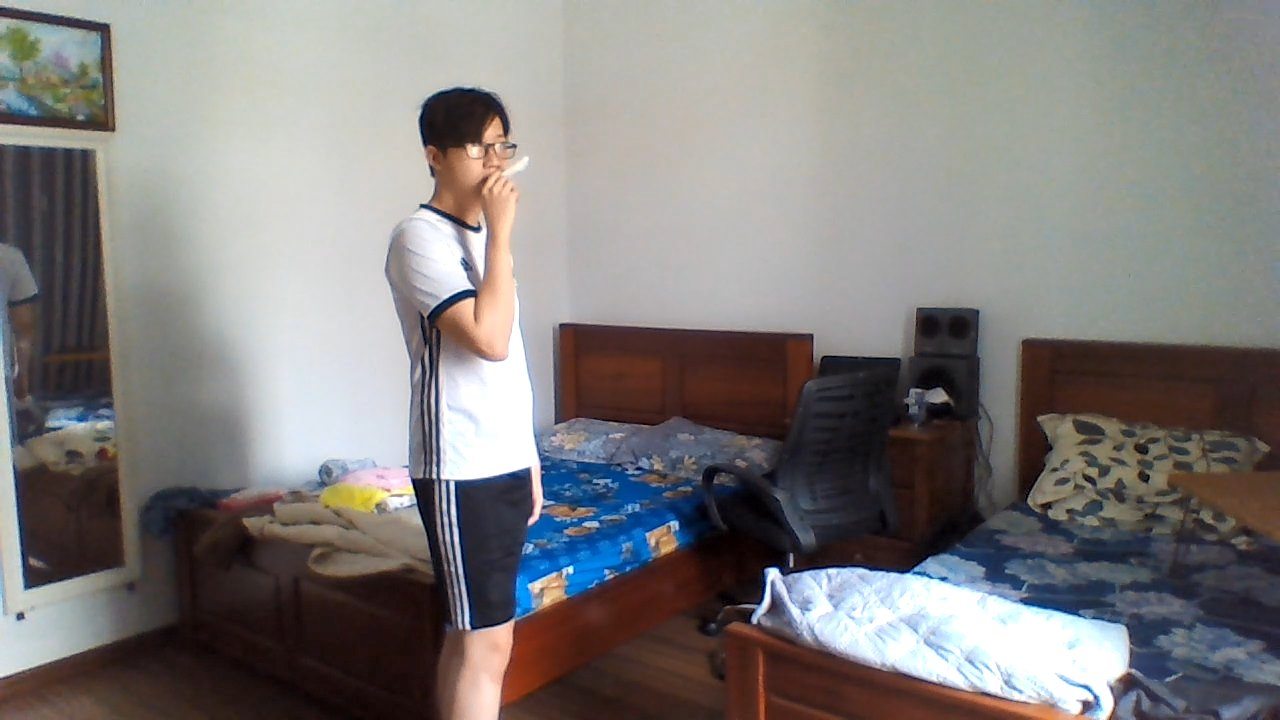cigarette: (500, 158, 529, 174)
person: (374, 75, 568, 720)
